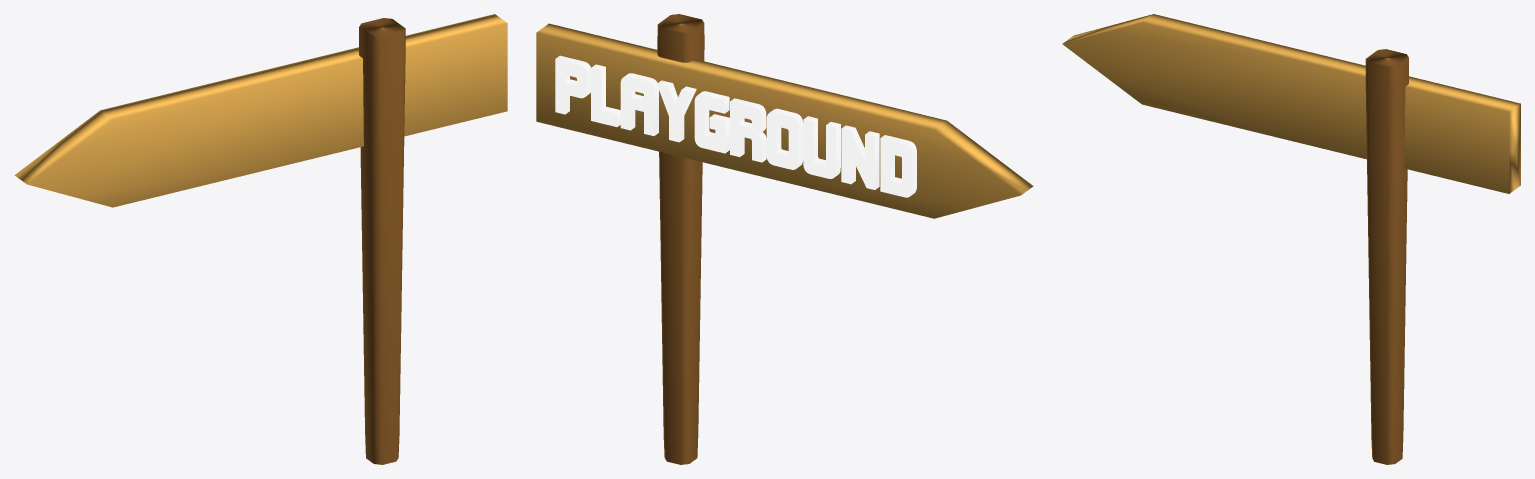
The model's file is playgroundBoard.glb.
The picture shows the model from 3 angles, left to right: view 1: azimuth 30°, elevation 25°; view 2: azimuth 150°, elevation 25°; view 3: azimuth 330°, elevation 25°; orthographic projection. The views are drawn at different scales.
Visible parts, largest first — view 1: Cube.003, Cube.002; view 2: Cube.003, Text, Cube.002; view 3: Cube.003, Cube.002.
Part boxes in pixels (x1,y1,x2,y2): Cube.003: [14, 14, 507, 207]; Cube.002: [359, 18, 405, 464]; Cube.003: [536, 23, 1033, 218]; Text: [555, 55, 916, 197]; Cube.002: [657, 14, 704, 464]; Cube.003: [1062, 14, 1520, 193]; Cube.002: [1365, 49, 1408, 464].
Bounding box in the file's own units: 4.58 × 3.92 × 0.4913.
